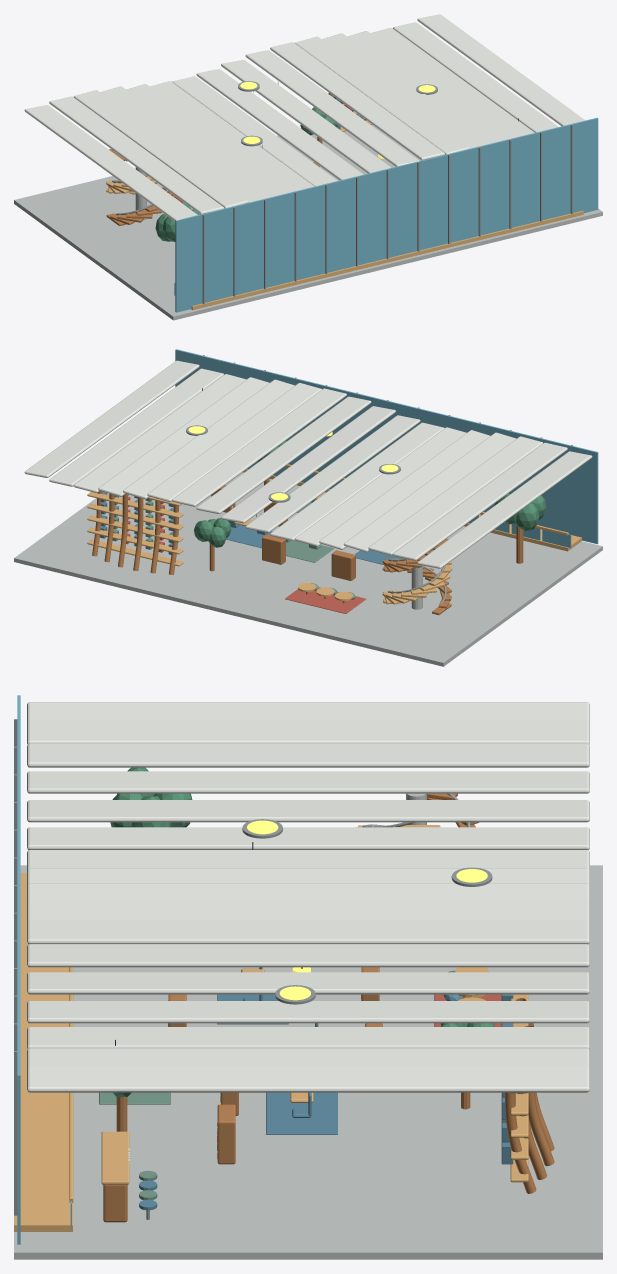
Rendered from oodi_book_heaven.glb.
3 views of the same model, one above another, from view 1: azimuth 30°, elevation 25°; view 2: azimuth 150°, elevation 25°; view 3: azimuth 270°, elevation 25° (orthographic). The views are drawn at different scales.
Visible parts, largest first — view 1: glazed_city_facade, reading_floor_28x18, acoustic_ceiling_wave_10, acoustic_ceiling_wave_02, acoustic_ceiling_wave_01, acoustic_ceiling_wave_11, acoustic_ceiling_wave_09, acoustic_ceiling_wave_00, acoustic_ceiling_wave_16, acoustic_ceiling_wave_07, acoustic_ceiling_wave_08, acoustic_ceiling_wave_15 (+8 smaller); view 2: reading_floor_28x18, glazed_city_facade, acoustic_ceiling_wave_10, acoustic_ceiling_wave_02, acoustic_ceiling_wave_01, acoustic_ceiling_wave_09, acoustic_ceiling_wave_11, acoustic_ceiling_wave_00, acoustic_ceiling_wave_16, acoustic_ceiling_wave_15, acoustic_ceiling_wave_07, acoustic_ceiling_wave_08 (+21 smaller); view 3: reading_floor_28x18, acoustic_ceiling_wave_16, acoustic_ceiling_wave_10, acoustic_ceiling_wave_01, acoustic_ceiling_wave_02, acoustic_ceiling_wave_11, acoustic_ceiling_wave_03, acoustic_ceiling_wave_13, acoustic_ceiling_wave_04, acoustic_ceiling_wave_12, acoustic_ceiling_wave_05, acoustic_ceiling_wave_14 (+15 smaller).
Boxes of the visible parts, x1,y1,x2,y2 form: glazed_city_facade: [175, 117, 598, 312]; reading_floor_28x18: [14, 118, 602, 320]; acoustic_ceiling_wave_10: [270, 42, 444, 160]; acoustic_ceiling_wave_02: [74, 90, 248, 208]; acoustic_ceiling_wave_01: [49, 96, 223, 214]; acoustic_ceiling_wave_11: [295, 36, 469, 154]; acoustic_ceiling_wave_09: [245, 50, 419, 166]; acoustic_ceiling_wave_00: [24, 105, 197, 221]; acoustic_ceiling_wave_16: [417, 14, 585, 126]; acoustic_ceiling_wave_07: [196, 69, 363, 180]; acoustic_ceiling_wave_08: [221, 60, 391, 173]; acoustic_ceiling_wave_15: [393, 22, 558, 132]; reading_floor_28x18: [14, 472, 602, 666]; glazed_city_facade: [175, 349, 598, 544]; acoustic_ceiling_wave_10: [172, 388, 346, 506]; acoustic_ceiling_wave_02: [368, 436, 543, 555]; acoustic_ceiling_wave_01: [393, 442, 567, 560]; acoustic_ceiling_wave_09: [196, 396, 371, 513]; acoustic_ceiling_wave_11: [147, 383, 321, 501]; acoustic_ceiling_wave_00: [417, 451, 592, 568]; acoustic_ceiling_wave_16: [24, 360, 199, 477]; acoustic_ceiling_wave_15: [49, 368, 223, 486]; acoustic_ceiling_wave_07: [245, 415, 420, 532]; acoustic_ceiling_wave_08: [221, 406, 395, 523]; reading_floor_28x18: [14, 865, 602, 1259]; acoustic_ceiling_wave_16: [27, 1065, 589, 1092]; acoustic_ceiling_wave_10: [27, 919, 589, 944]; acoustic_ceiling_wave_01: [27, 720, 589, 744]; acoustic_ceiling_wave_02: [27, 744, 589, 767]; acoustic_ceiling_wave_11: [27, 944, 589, 967]; acoustic_ceiling_wave_03: [27, 771, 589, 793]; acoustic_ceiling_wave_13: [27, 1001, 589, 1023]; acoustic_ceiling_wave_04: [27, 800, 589, 822]; acoustic_ceiling_wave_12: [27, 972, 589, 994]; acoustic_ceiling_wave_05: [27, 827, 589, 849]; acoustic_ceiling_wave_14: [27, 1027, 589, 1049].
Bounding box in the file's own units: 28 × 6.1 × 18.
